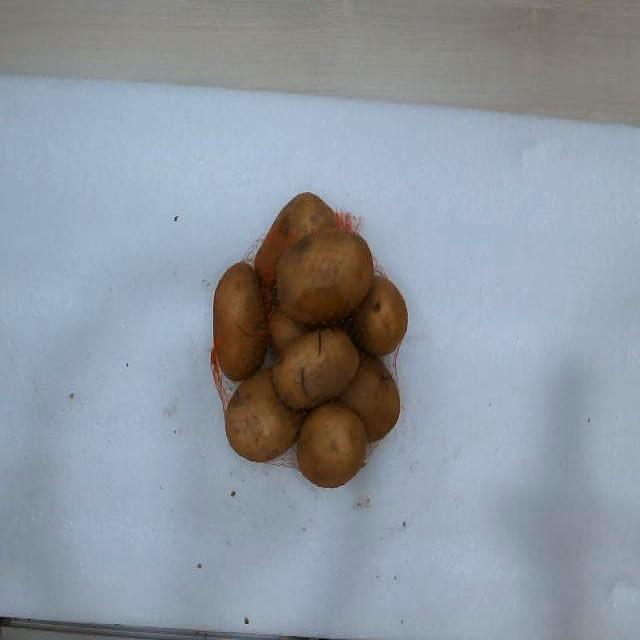potato: (276, 228, 371, 324), (255, 192, 335, 287), (225, 368, 304, 462), (272, 328, 359, 408), (214, 262, 268, 379), (298, 402, 368, 488), (340, 357, 400, 442), (350, 277, 408, 355), (269, 308, 308, 352)
